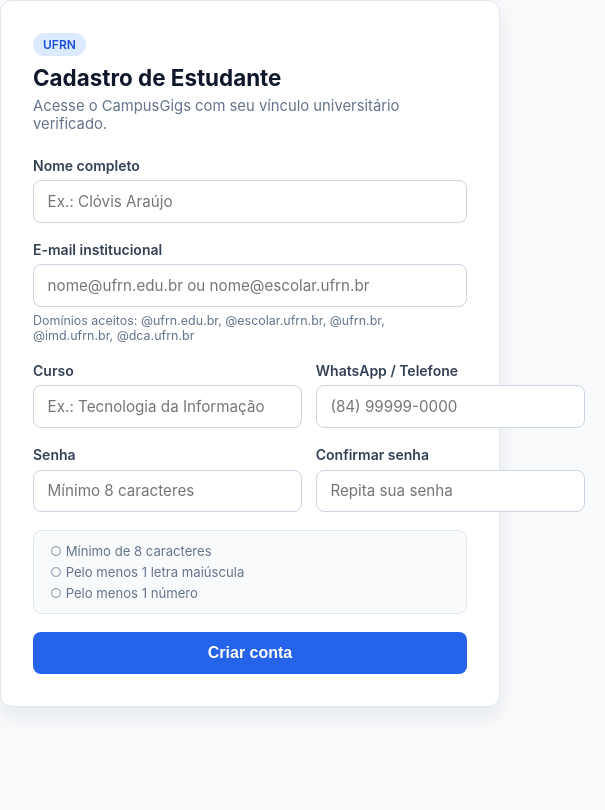
Test: RegisterForm › deve exibir erro e impedir envio quando o e-mail não é de domínio institucional da UFRN
In the field labelled "Nome completo": coordinates (250, 201) x1=33 y1=180 x2=467 y2=223, type "João Silva"
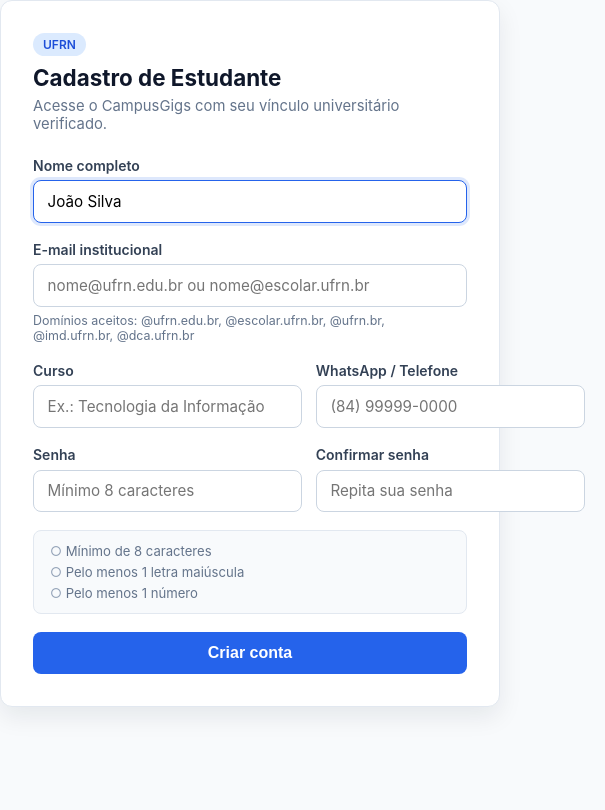
In the field labelled "E-mail institucional": coordinates (250, 286) x1=33 y1=264 x2=467 y2=307, type "joao@gmail.com"
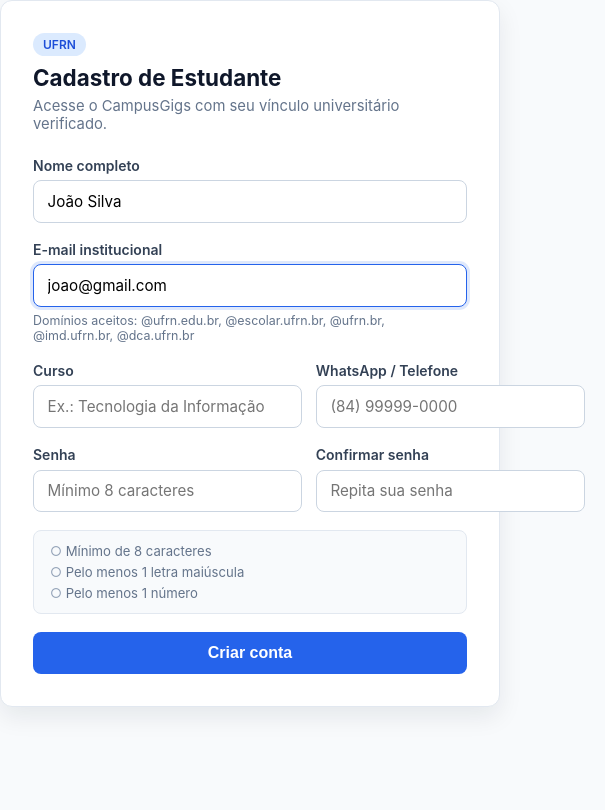
In the password field labelled "Senha": coordinates (168, 491) x1=33 y1=470 x2=302 y2=512, type "Campus2026"
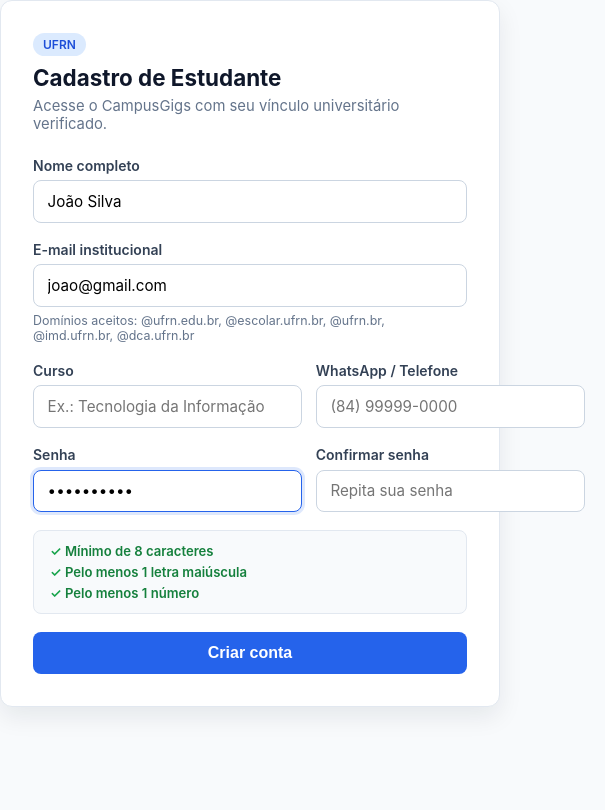
In the password field labelled "Confirmar senha": coordinates (450, 491) x1=316 y1=470 x2=585 y2=512, type "Campus2026"
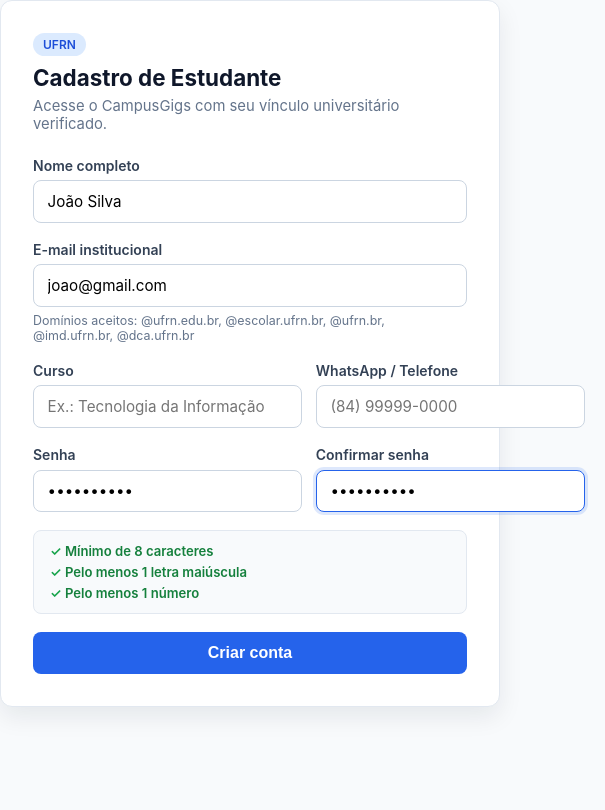
Click the button "Criar conta": coordinates (250, 654) x1=33 y1=632 x2=467 y2=674
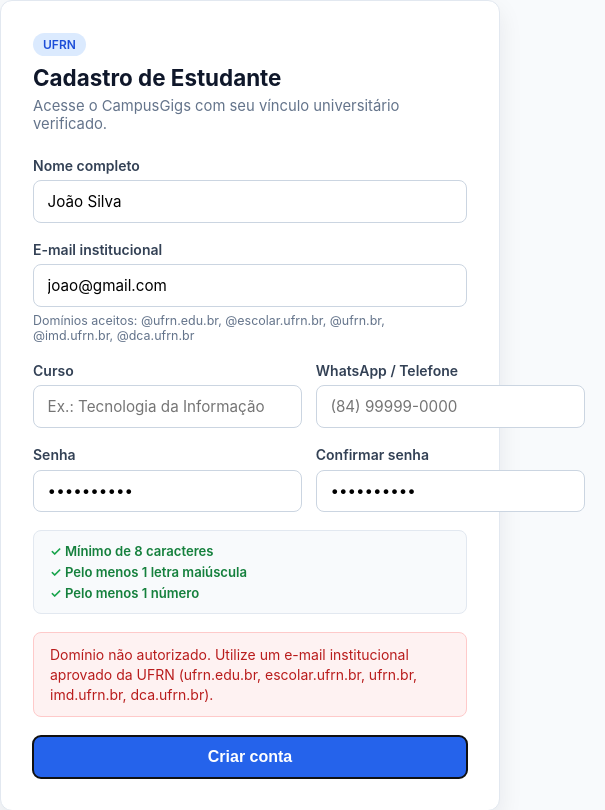
Expected: the text "Utilize um e-mail institucional aprovado da UFRN" is shown, x1=50 y1=646 x2=417 y2=703
